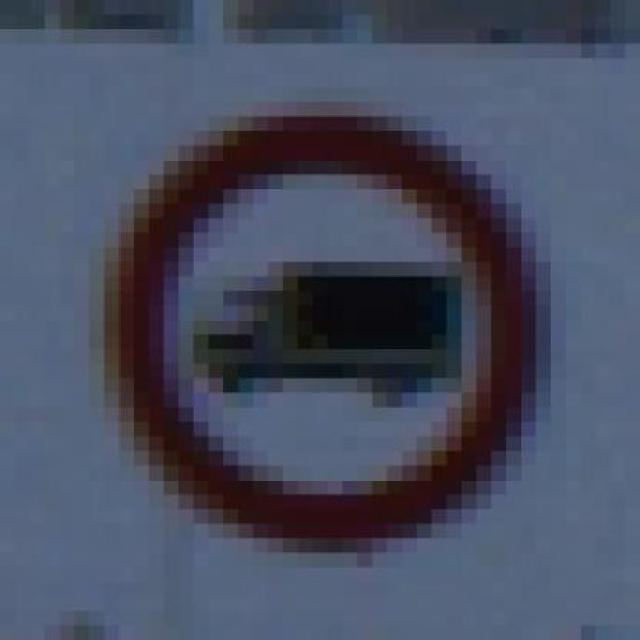Truck traffic is prohibited: (59, 73, 610, 553)
